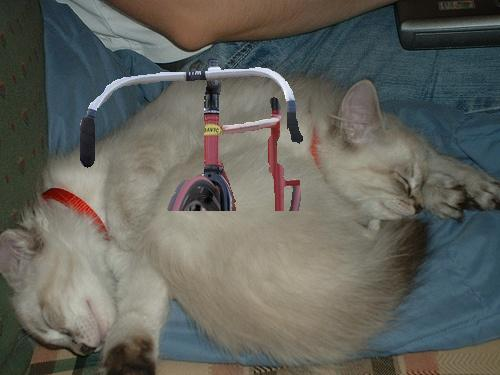tampered: (81, 58, 303, 211)
